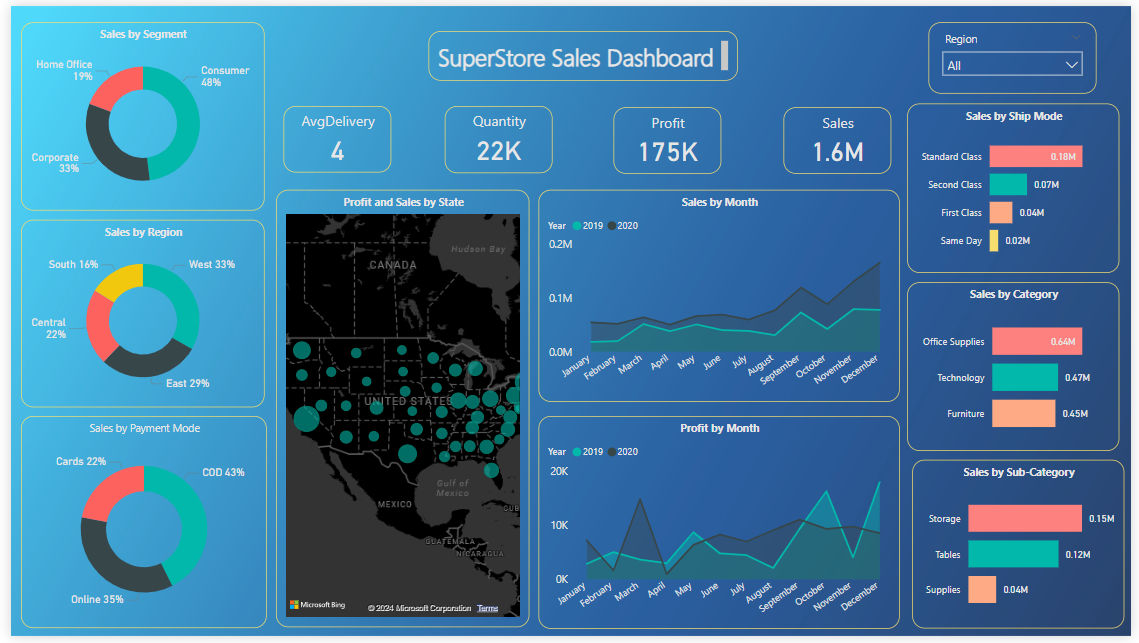

The dashboard page shown, as its layout file describes it:
{"tool":"powerbi","page":{"name":"Dashboard","canvas":[1280,720],"ordinal":0},"visuals":[{"type":"clusteredBarChart","title":"Sales by Category","fields":{"Category":["SuperStore dataset.Category"],"Y":["Sum(SuperStore dataset.Sales)"]},"box":[1023.8,315,242.5,192.5],"z":0},{"type":"clusteredBarChart","title":"Sales by Sub-Category","fields":{"Y":["Sum(SuperStore dataset.Sales)"],"Category":["SuperStore dataset.Sub-Category"]},"box":[1030,518.8,242.5,192.5],"z":1000},{"type":"clusteredBarChart","title":"Sales by Ship Mode","fields":{"Y":["Sum(SuperStore dataset.Sales)"],"Category":["SuperStore dataset.Ship Mode"]},"box":[1023.8,111.2,242.5,193.8],"z":2000},{"type":"areaChart","title":"Sales by Month","fields":{"Y":["Sum(SuperStore dataset.Sales)"],"Category":["SuperStore dataset.Order Date.Variation.Date Hierarchy.Month","SuperStore dataset.Order Date.Variation.Date Hierarchy.Day"],"Series":["SuperStore dataset.Order Date.Variation.Date Hierarchy.Year"]},"box":[602.6,210.3,412.8,242.3],"z":3000},{"type":"areaChart","title":"Profit by Month","fields":{"Category":["SuperStore dataset.Order Date.Variation.Date Hierarchy.Month","SuperStore dataset.Order Date.Variation.Date Hierarchy.Day"],"Series":["SuperStore dataset.Order Date.Variation.Date Hierarchy.Year"],"Y":["Sum(SuperStore dataset.Profit)"]},"box":[602.6,467.9,412.8,243.6],"z":4000},{"type":"map","title":"Profit and Sales by State","fields":{"Category":["SuperStore dataset.State"],"Size":["Sum(SuperStore dataset.Sales)"]},"box":[302.6,210.3,289.7,500],"z":5000},{"type":"donutChart","title":"Sales by Segment","fields":{"Category":["SuperStore dataset.Segment"],"Y":["Sum(SuperStore dataset.Sales)"]},"box":[11.5,17.9,278.2,215.4],"z":6000},{"type":"donutChart","title":"Sales by Payment Mode","fields":{"Y":["Sum(SuperStore dataset.Sales)"],"Category":["SuperStore dataset.Payment Mode"]},"box":[11.5,467.9,280.8,242.3],"z":7000},{"type":"slicer","fields":{"Values":["SuperStore dataset.Region"]},"box":[1048.3,18.3,191.7,81.7],"z":8000},{"type":"card","title":"Sales","fields":{"Values":["Sum(SuperStore dataset.Sales)"]},"box":[882.2,116.1,123,76],"z":9000},{"type":"card","title":"Profit","fields":{"Values":["Sum(SuperStore dataset.Profit)"]},"box":[688.9,116.1,123,76],"z":10000},{"type":"card","title":"Quantity","fields":{"Values":["Sum(SuperStore dataset.Quantity)"]},"box":[495.6,114.4,123,76.7],"z":11000},{"type":"card","title":"AvgDelivery","fields":{"Values":["Avg(SuperStore dataset.AvgDelivery)"]},"box":[311,114.9,123,76.2],"z":12000},{"type":"textbox","box":[476.9,28.2,353.8,56.4],"z":13000},{"type":"donutChart","title":"Sales by Region","fields":{"Y":["Sum(SuperStore dataset.Sales)"],"Category":["SuperStore dataset.Region"]},"box":[11.5,243.6,278.2,214.1],"z":13001}]}

Visuals, with their boxes in screenshot pixels (x1, y1, x2, y2), scaled from the page's 1280x720 canvas onto the 1139x643 screenshot:
"Sales by Category" clusteredBarChart: [x1=911, y1=281, x2=1127, y2=453]
"Sales by Sub-Category" clusteredBarChart: [x1=917, y1=463, x2=1132, y2=635]
"Sales by Ship Mode" clusteredBarChart: [x1=911, y1=99, x2=1127, y2=272]
"Sales by Month" areaChart: [x1=536, y1=188, x2=904, y2=404]
"Profit by Month" areaChart: [x1=536, y1=418, x2=904, y2=635]
"Profit and Sales by State" map: [x1=269, y1=188, x2=527, y2=634]
"Sales by Segment" donutChart: [x1=10, y1=16, x2=258, y2=208]
"Sales by Payment Mode" donutChart: [x1=10, y1=418, x2=260, y2=634]
slicer - SuperStore dataset.Region: [x1=933, y1=16, x2=1103, y2=89]
"Sales" card: [x1=785, y1=104, x2=894, y2=172]
"Profit" card: [x1=613, y1=104, x2=722, y2=172]
"Quantity" card: [x1=441, y1=102, x2=550, y2=171]
"AvgDelivery" card: [x1=277, y1=103, x2=386, y2=171]
textbox: [x1=424, y1=25, x2=739, y2=76]
"Sales by Region" donutChart: [x1=10, y1=218, x2=258, y2=409]
